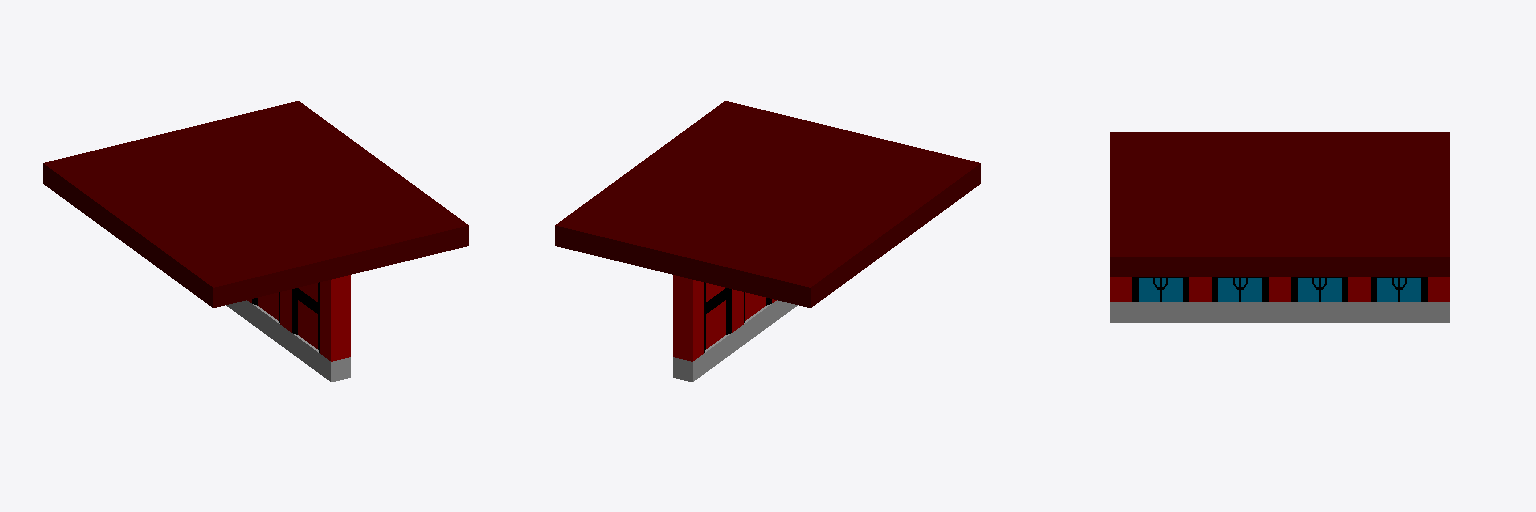
File: SchoolDoor4.obj
The picture shows the model from 3 angles: view 1: azimuth 30°, elevation 25°; view 2: azimuth 150°, elevation 25°; view 3: azimuth 270°, elevation 25°; orthographic projection.
Parts seen in each view (by area): view 1: Cube; view 2: Cube; view 3: Cube.
Part boxes in pixels (x1,y1,x2,y2): Cube: (43, 101, 468, 381); Cube: (555, 101, 980, 381); Cube: (1110, 132, 1449, 322).
Bounding box in the file's own units: 26 × 12 × 30.